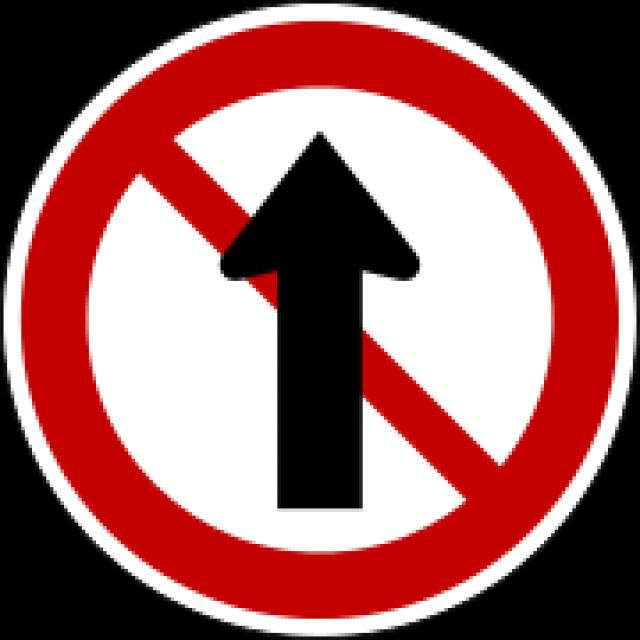regulatory_No_straight_drive: (0, 0, 640, 640)
